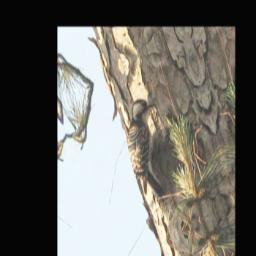Woodpecker: (115, 89, 182, 211)
